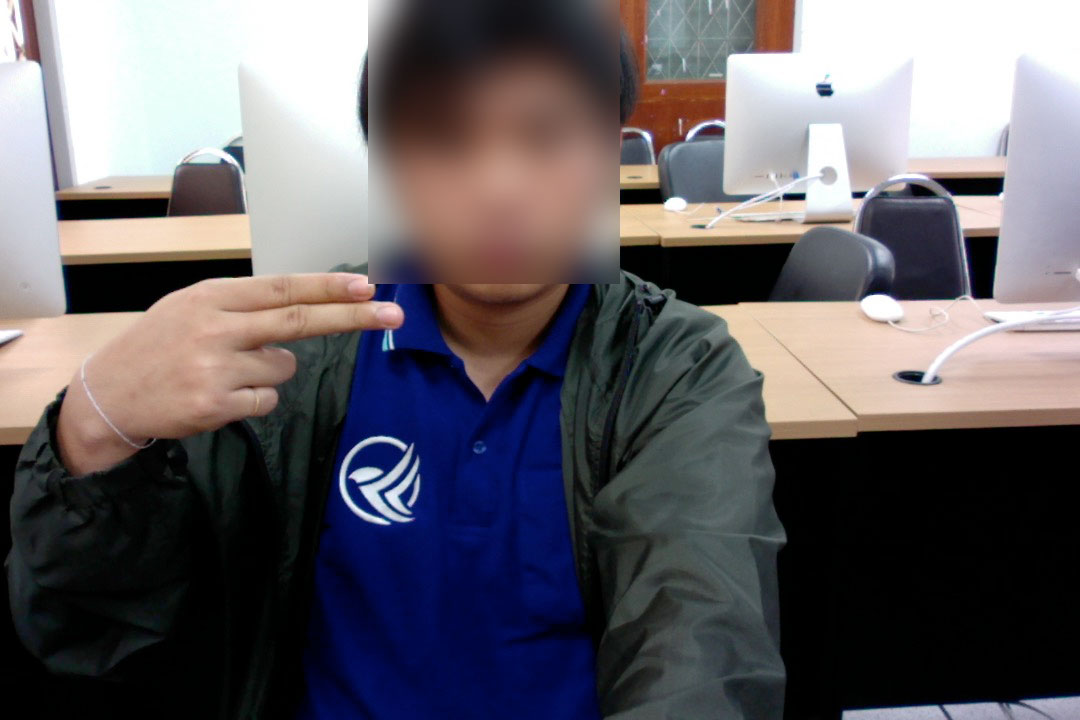hor: (52, 266, 412, 448)
